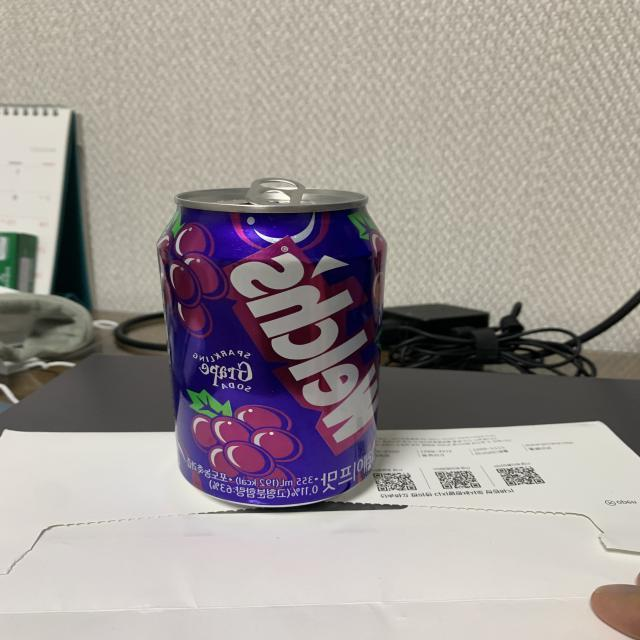metal: (156, 180, 387, 510)
